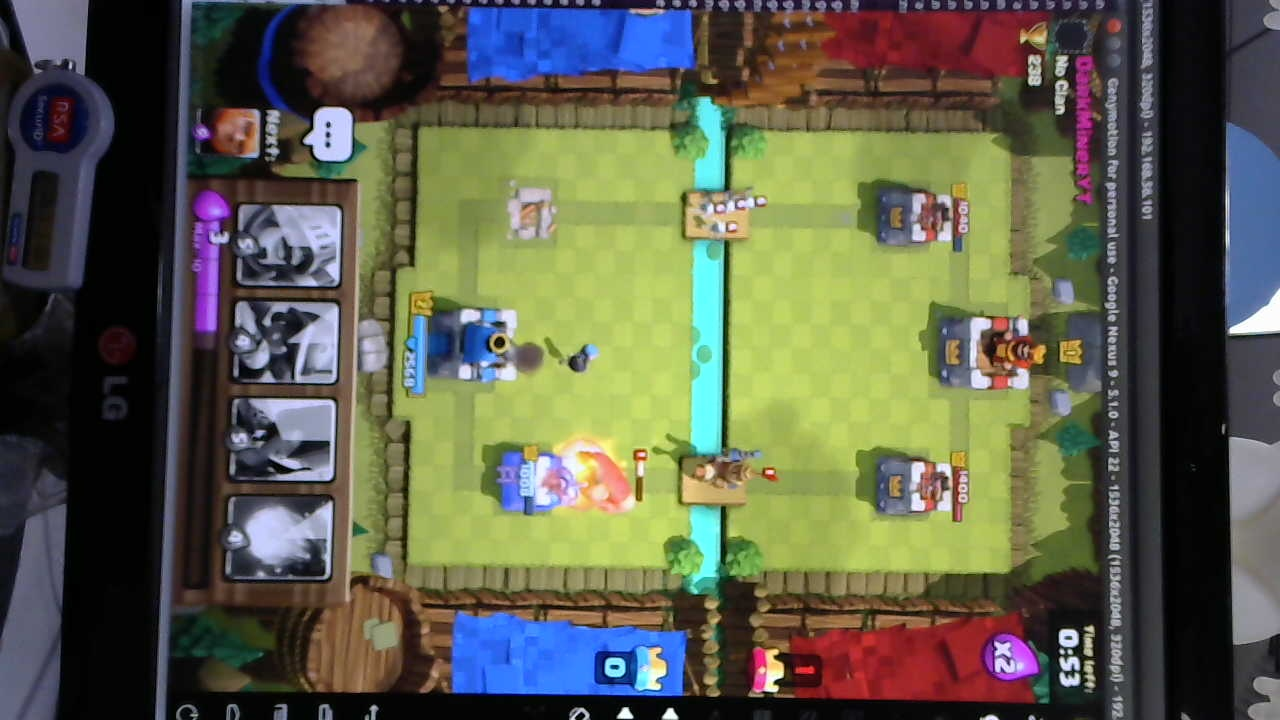arena: (499, 438, 581, 508)
bomb: (558, 341, 603, 378)
darena: (500, 184, 559, 253)
earena: (873, 453, 954, 522), (877, 190, 955, 253)
eking: (936, 310, 1040, 393)
giant: (565, 444, 636, 513)
king: (432, 304, 521, 388)
prince: (693, 441, 765, 490)
